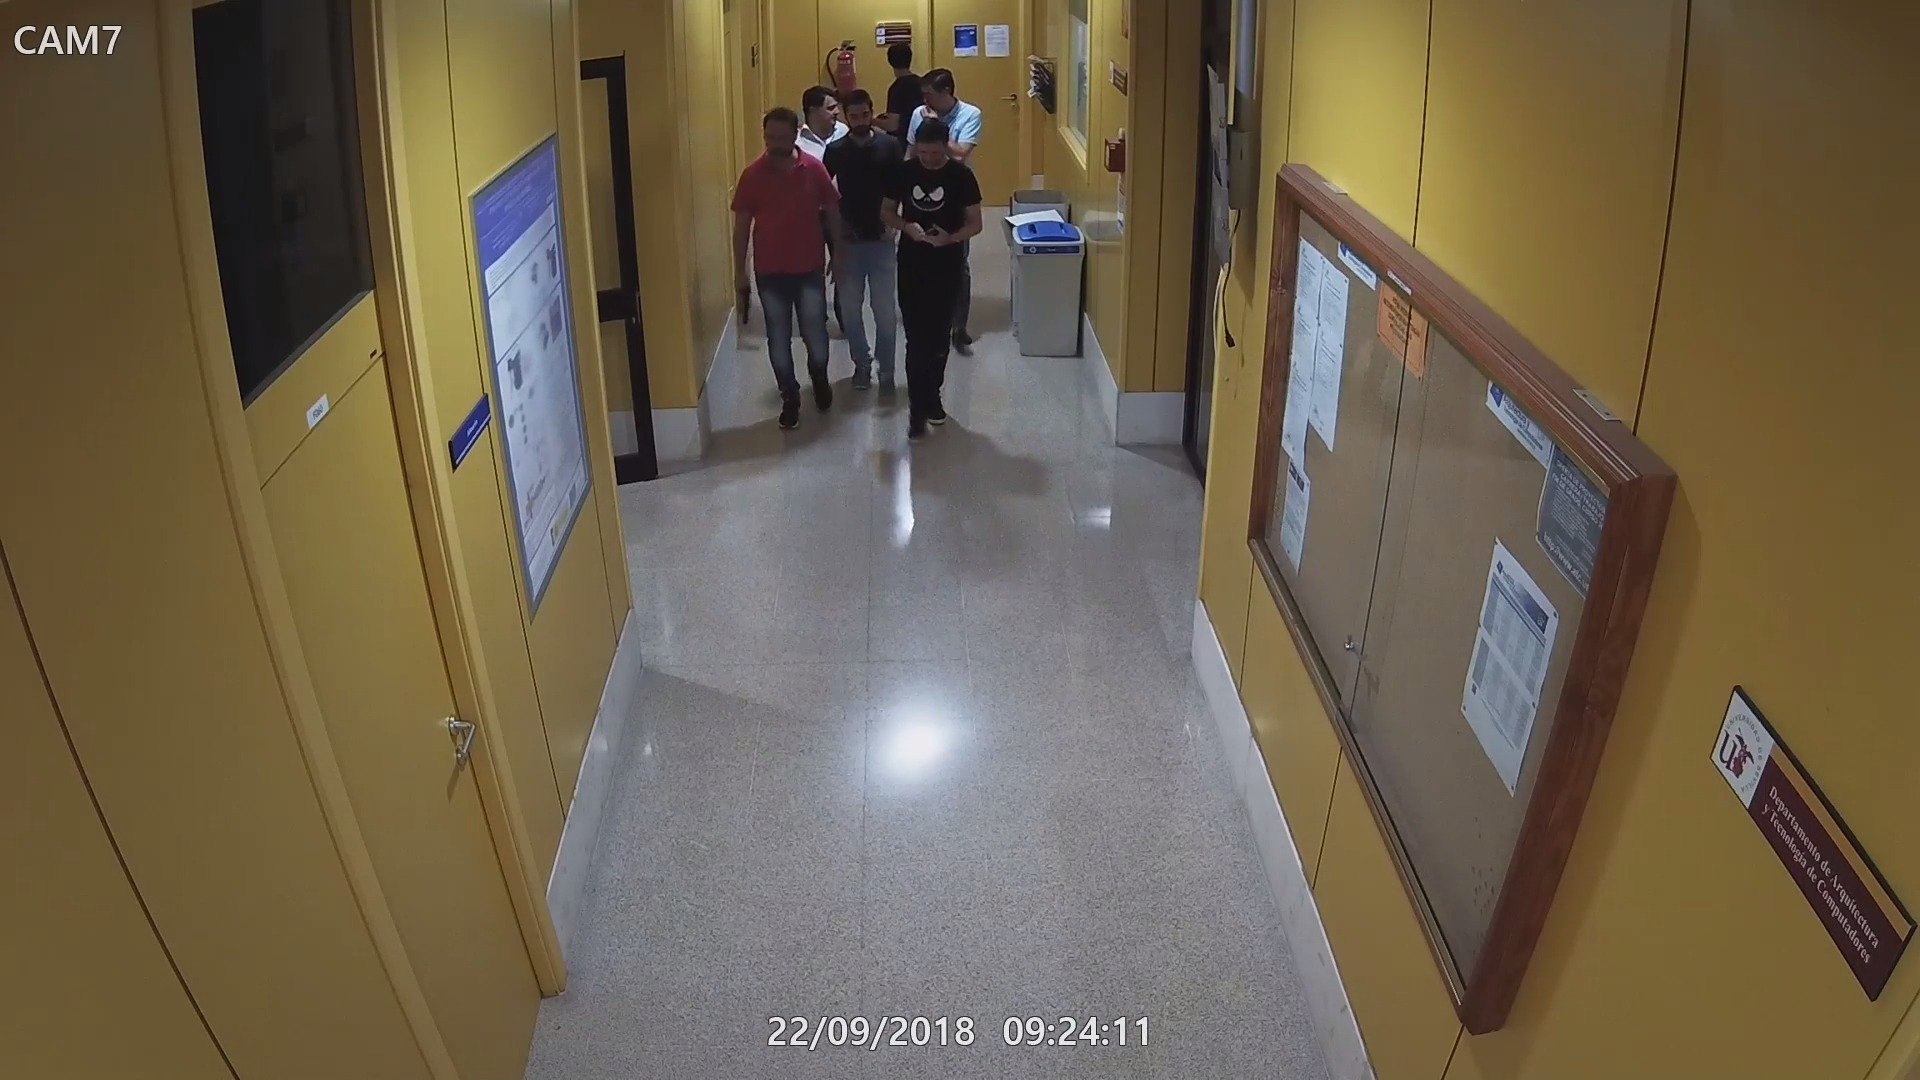Handgun: (729, 273, 756, 324)
